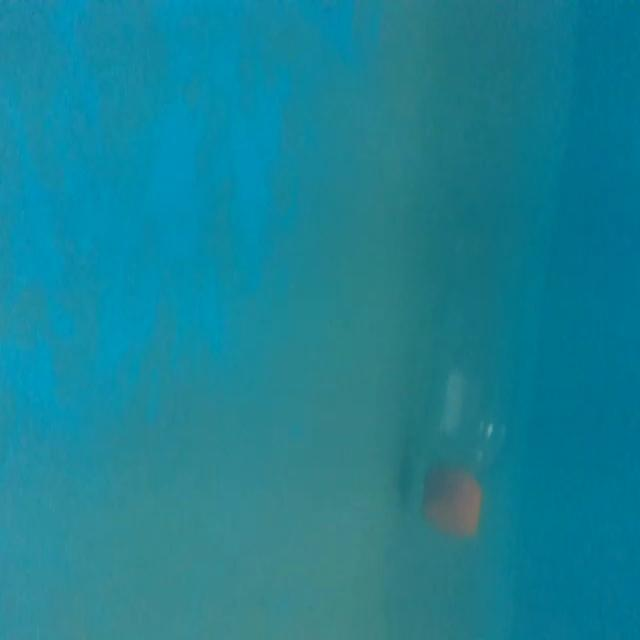plastic bottle: (421, 132, 555, 550)
